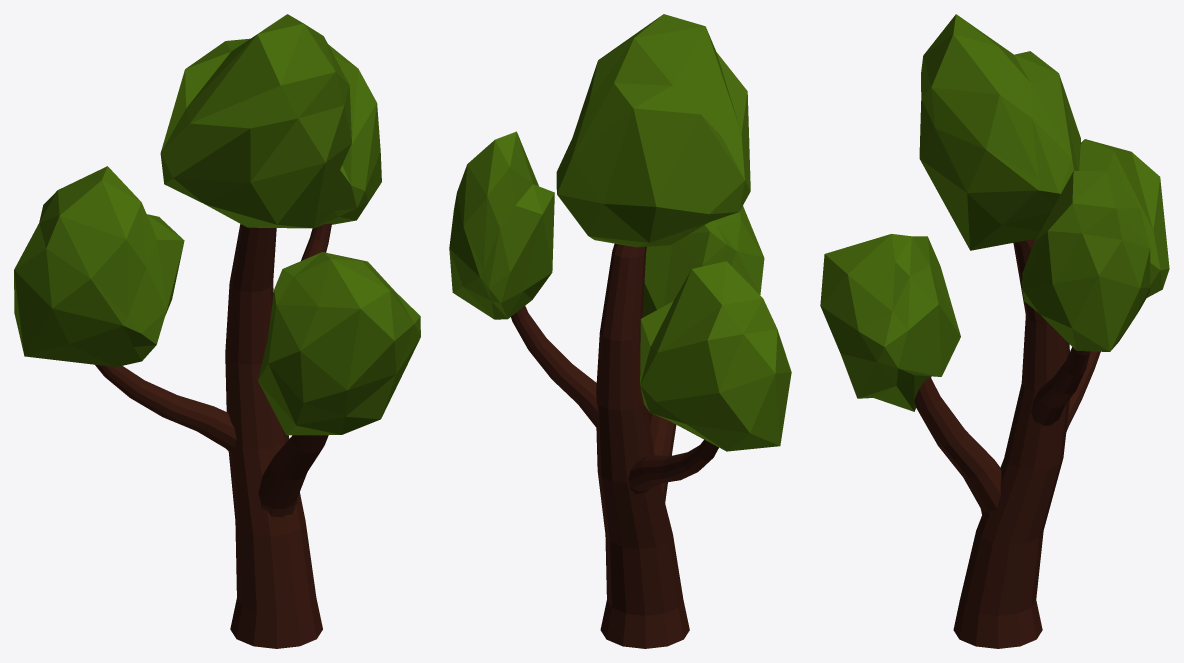
File: tree2.fbx
3 views of the same model, side by side, from view 1: azimuth 30°, elevation 25°; view 2: azimuth 150°, elevation 25°; view 3: azimuth 270°, elevation 25° (orthographic). The views are drawn at different scales.
Parts seen in each view (by area): view 1: Cylinder.003; view 2: Cylinder.003; view 3: Cylinder.003.
Part boxes in pixels (left/top/right/bottom): Cylinder.003: left=14, top=14, right=420, bottom=648; Cylinder.003: left=449, top=14, right=791, bottom=648; Cylinder.003: left=820, top=14, right=1169, bottom=648.
Bounding box in the file's own units: 1003 × 1727 × 915.
